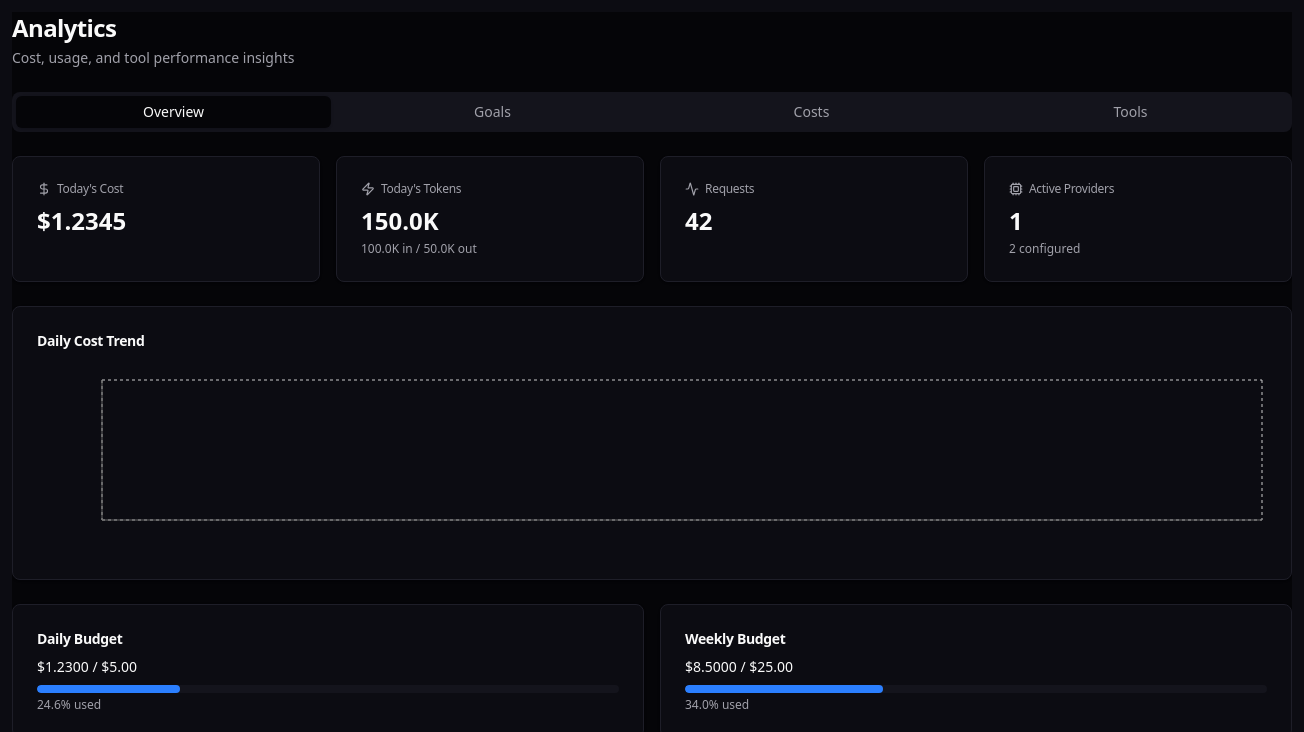
Test: AnalyticsPage › switches to Costs tab
Click the button "Costs" at (812, 112), box [654,96,969,128]
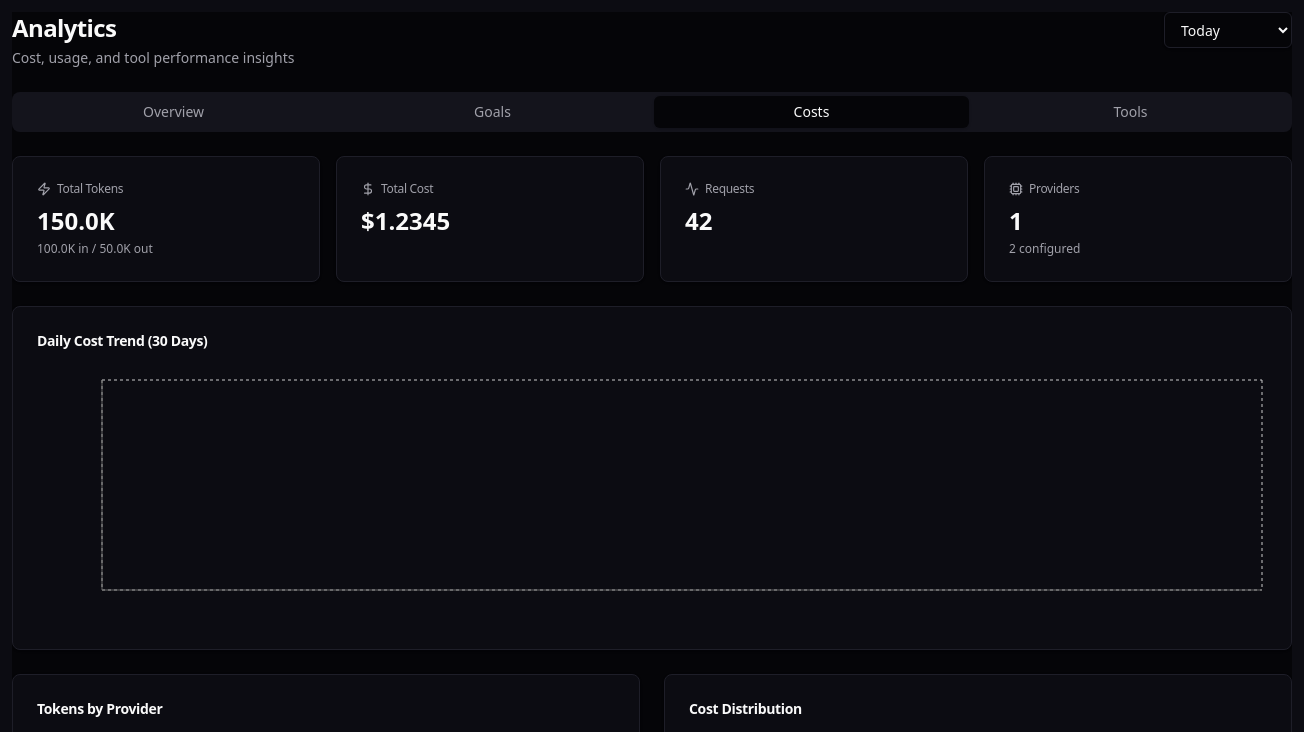
Expected: the heading "Total Tokens" is shown, [37,180,123,197]
Expected: the heading "Total Cost" is shown, [361,180,433,197]
Expected: the heading "Daily Cost Trend (30 Days)" is shown, [37,331,208,350]
